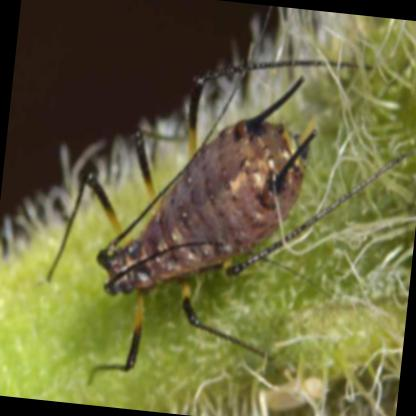uroleucon compositae: (96, 77, 400, 378)
